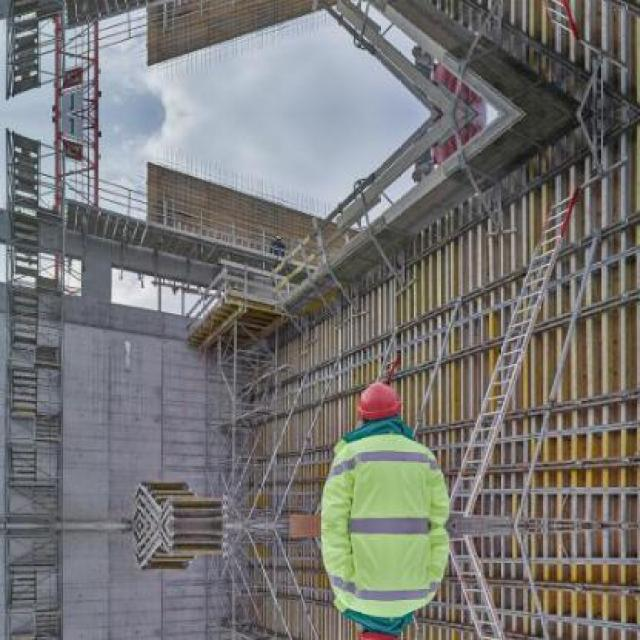helmet: (352, 378, 406, 432), (351, 617, 406, 637)
